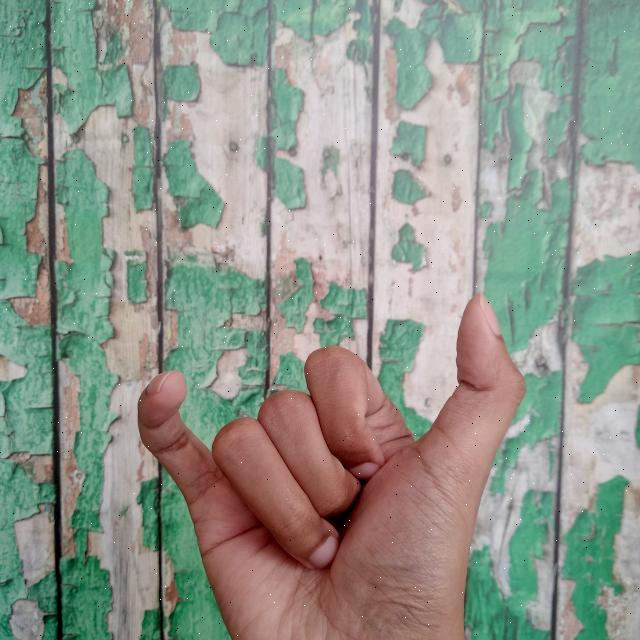Y: (132, 285, 528, 640)
